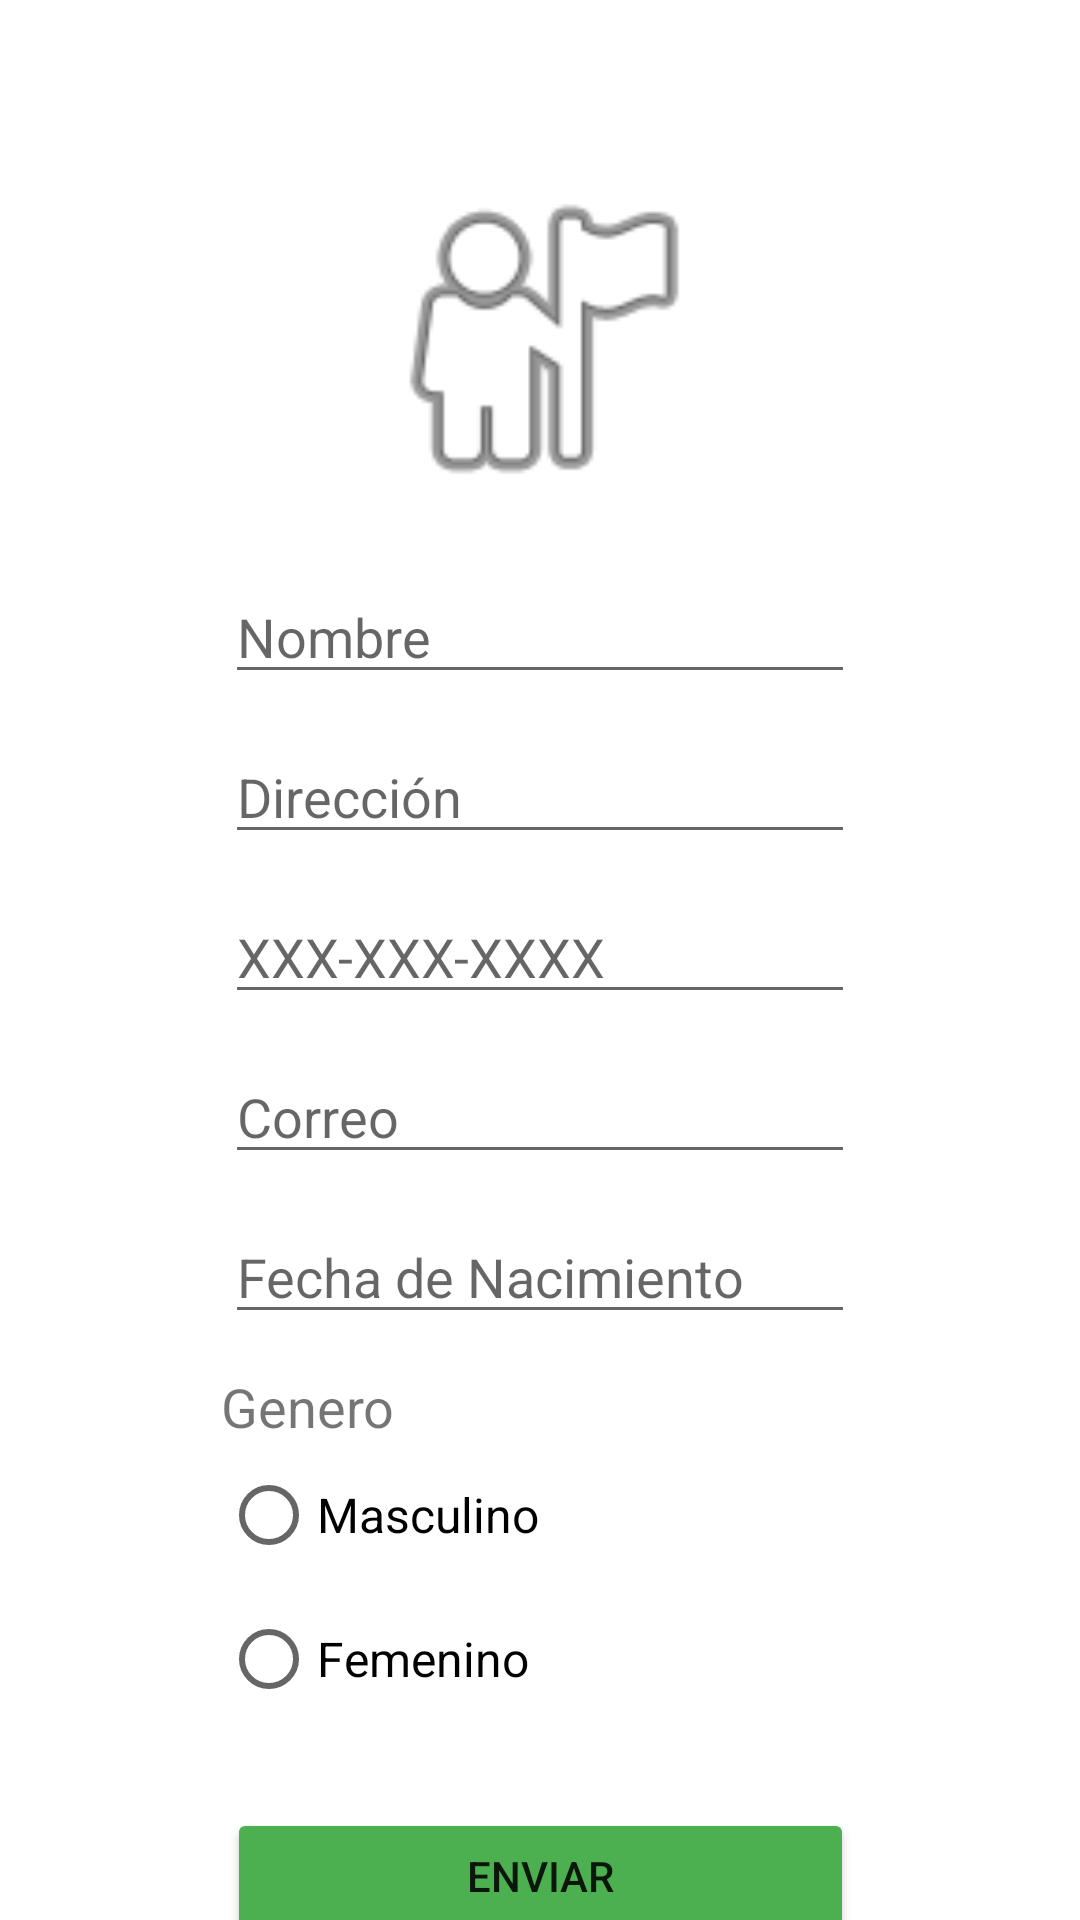

Icons on this 1080px×1920px Android screen, each with its box as (x1,y1,x2,y2):
myplaces: (410,205,679,473)
